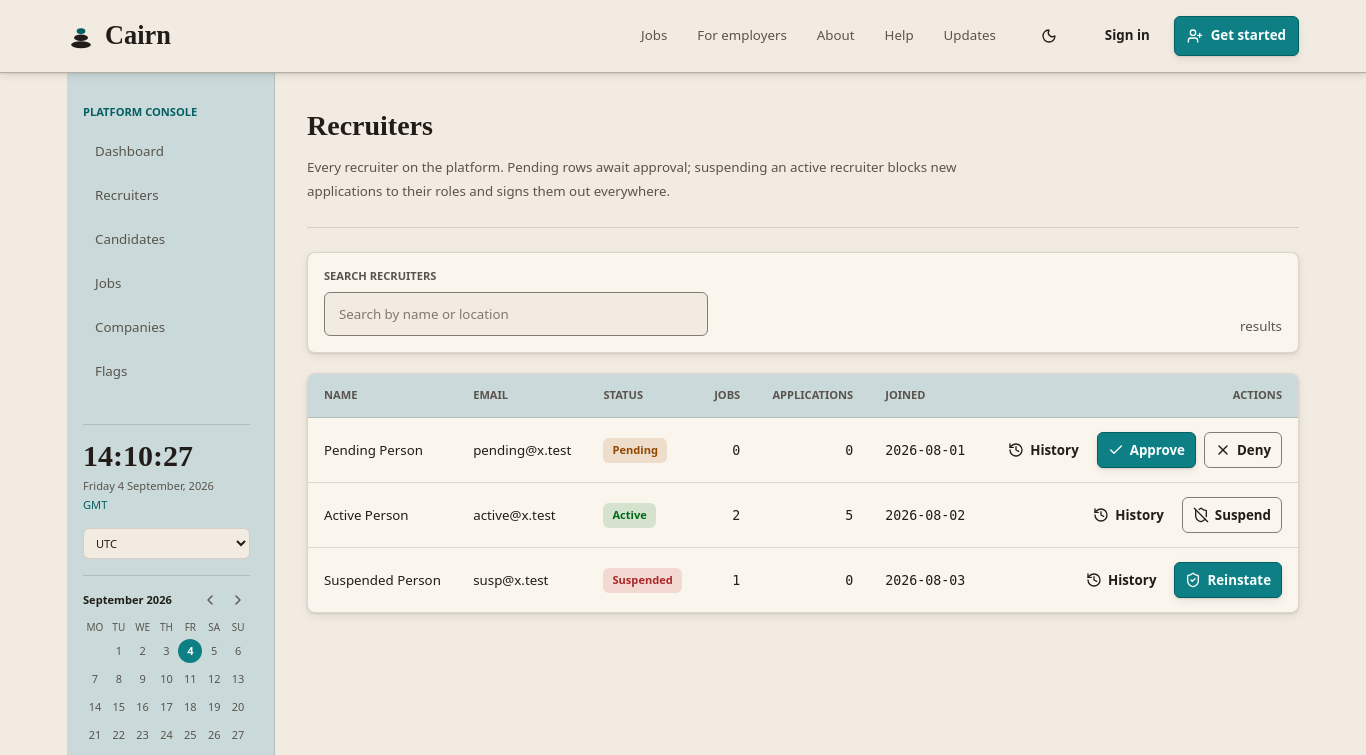
Test: the recruiters monitoring screen › moves a row off pending after a decision without a manual reload
The width and height of the screenshot is (1366, 755).
Expected: the text "Pending Person" is shown, 308,418 -> 457,483
Click the button "Approve". click: [1146, 450]
box: 1097,432 -> 1196,468
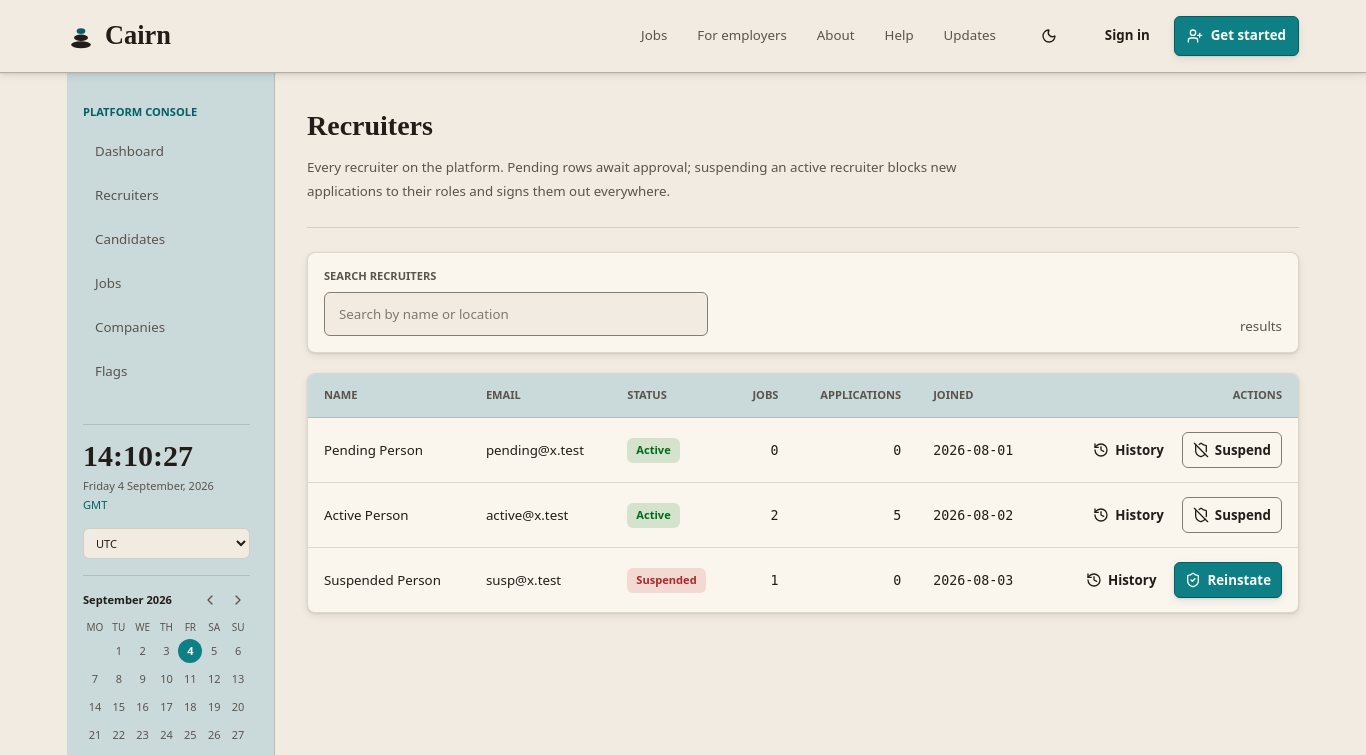
Expected: the button "Approve" is gone
